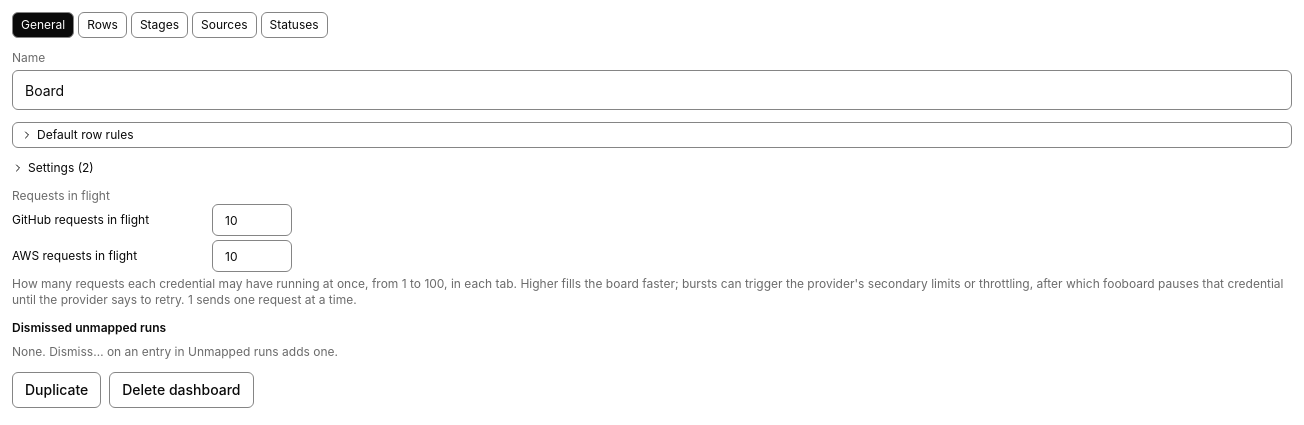
Test: the Amplify app picker › reports a key rejected in a region every account has
Press the mouse on the tab "Rows" at (103, 25), box [78, 12, 127, 38]
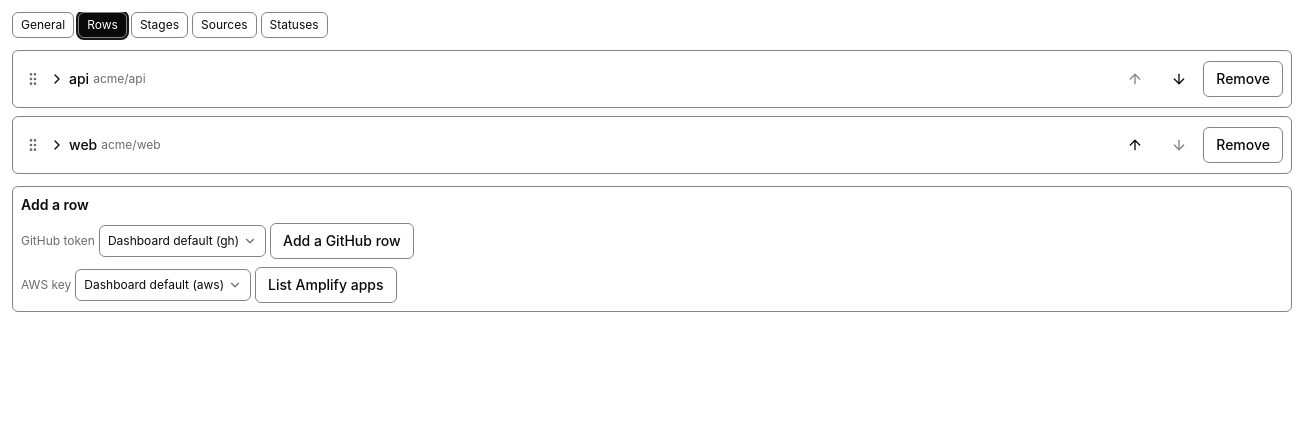
Click the button "List Amplify apps" at (326, 285), box [255, 267, 397, 303]
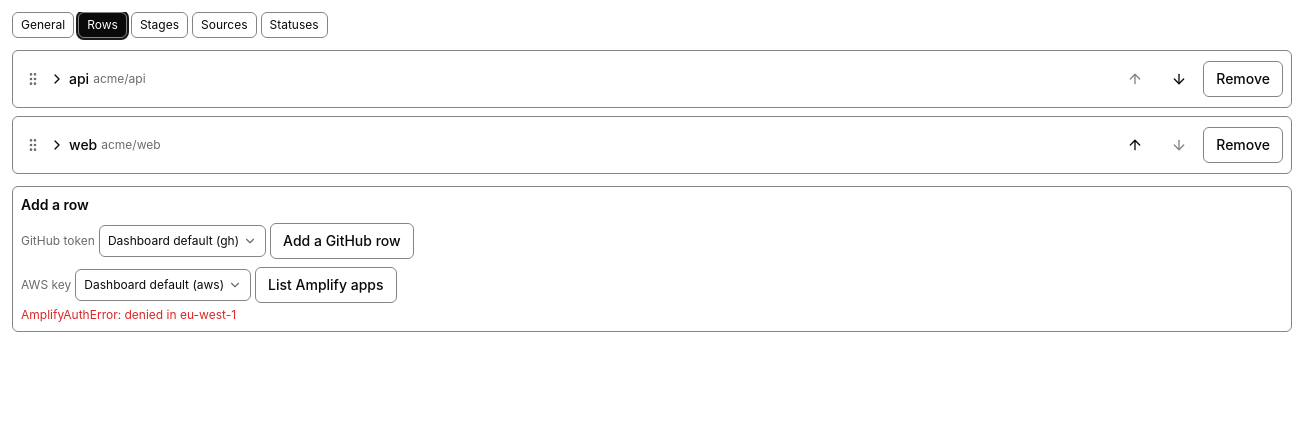
Result: the message shows "denied in eu-west-1" at [21, 307, 236, 322]
